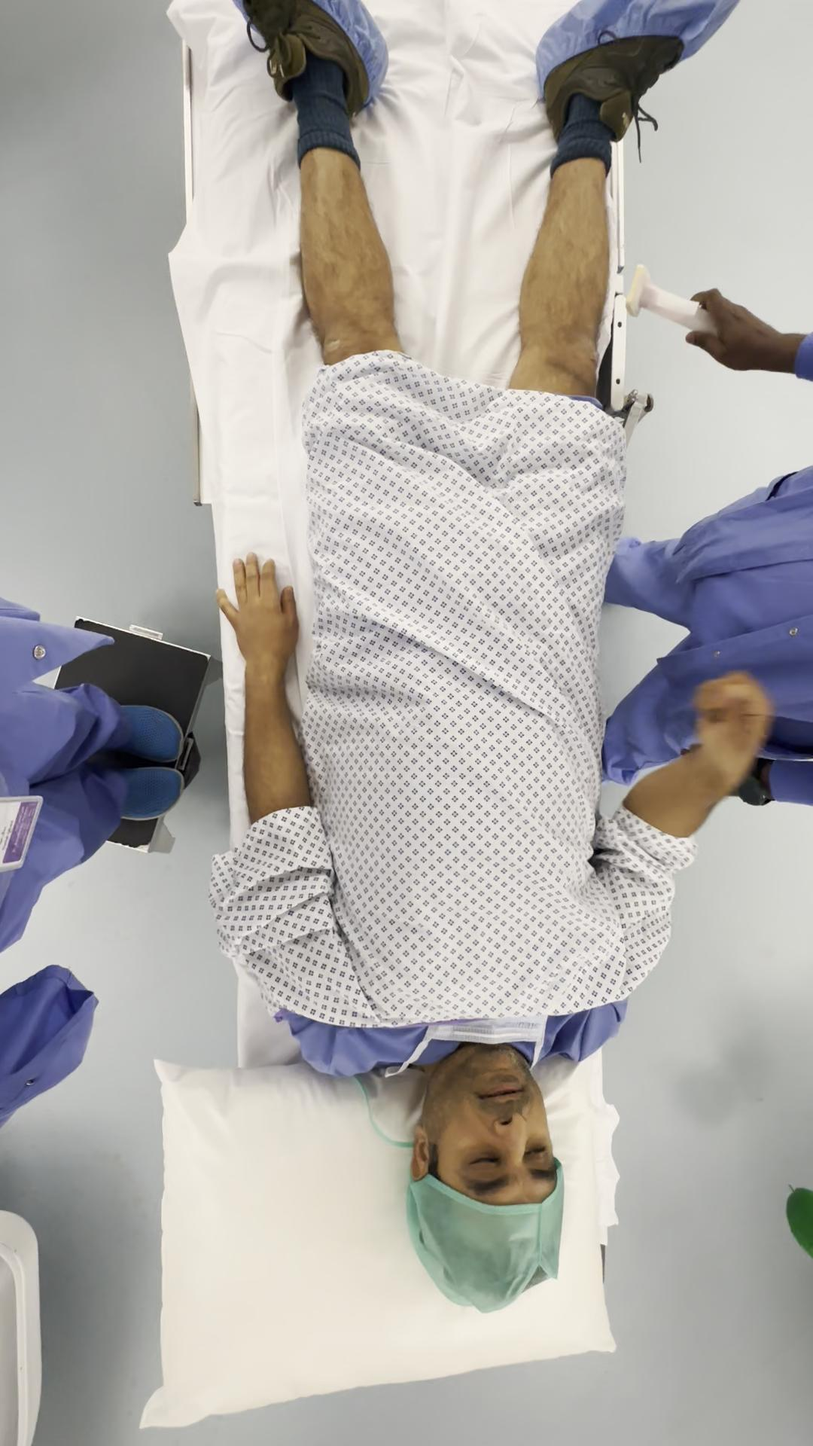bed: (144, 0, 771, 1422)
patient: (212, 0, 771, 1310)
prepstick: (627, 265, 714, 330)
